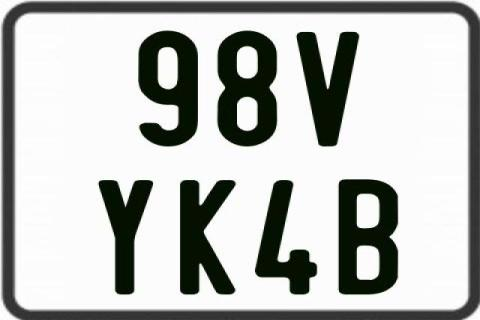0: (214, 28, 280, 148), (254, 177, 320, 297), (138, 29, 201, 147)
B: (337, 177, 401, 296)
K: (177, 179, 237, 297)
V: (294, 30, 357, 148)
Y: (98, 178, 153, 294)
